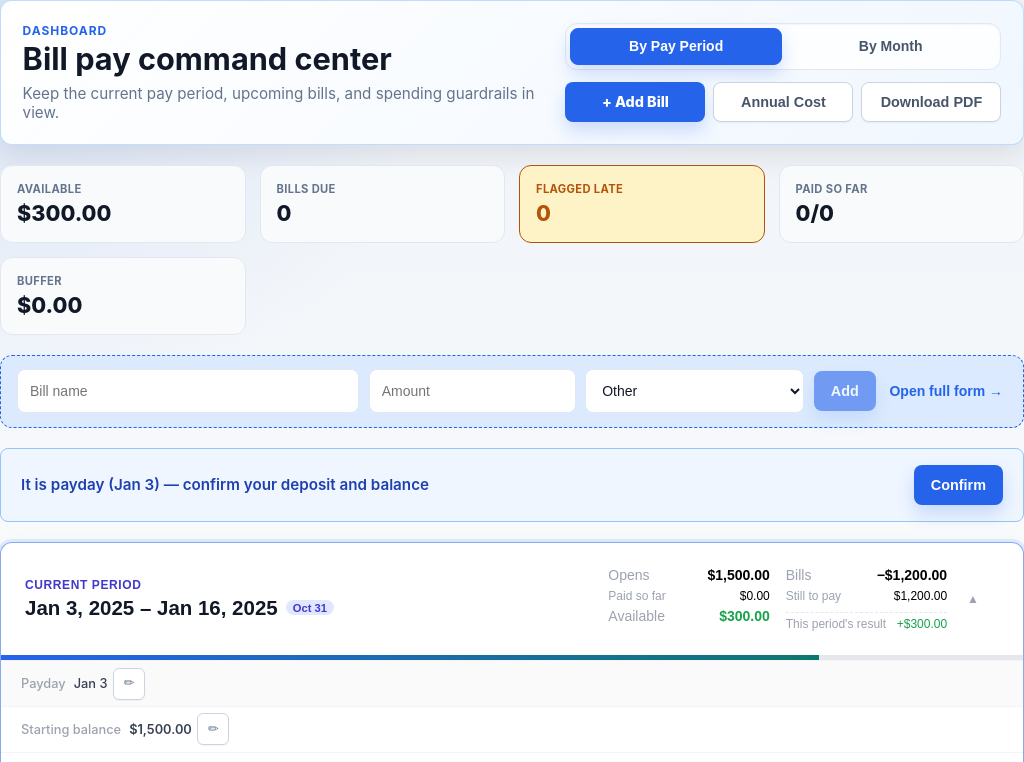
Dashboard › opens the Annual Cost modal when the button is clicked
The image size is (1024, 762).
Click the button "Annual Cost" at {"x": 783, "y": 102}, box x1=713 y1=82 x2=853 y2=122
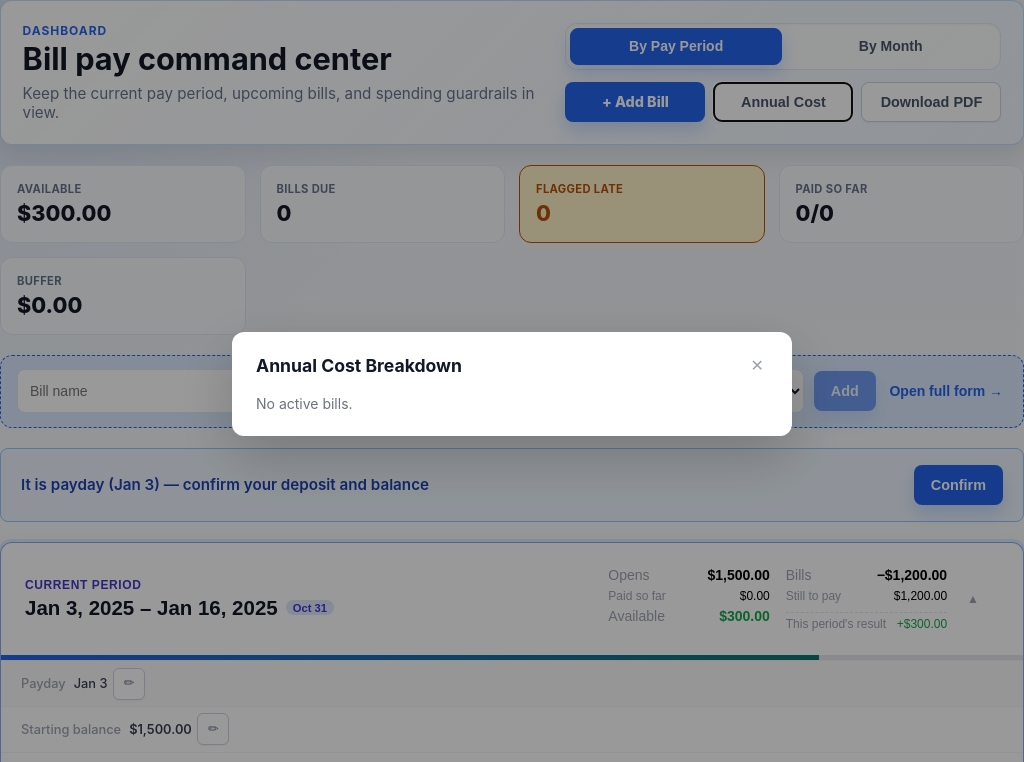
Expected: the heading "Annual Cost Breakdown" is shown, x1=256 y1=355 x2=462 y2=376
